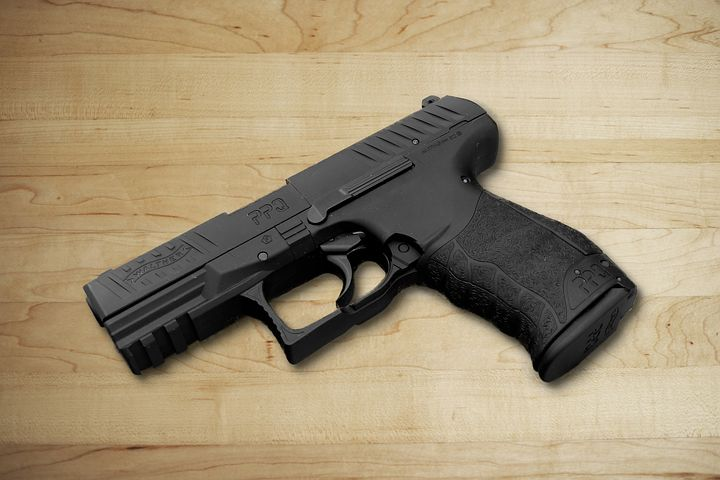gun: (82, 97, 643, 389)
